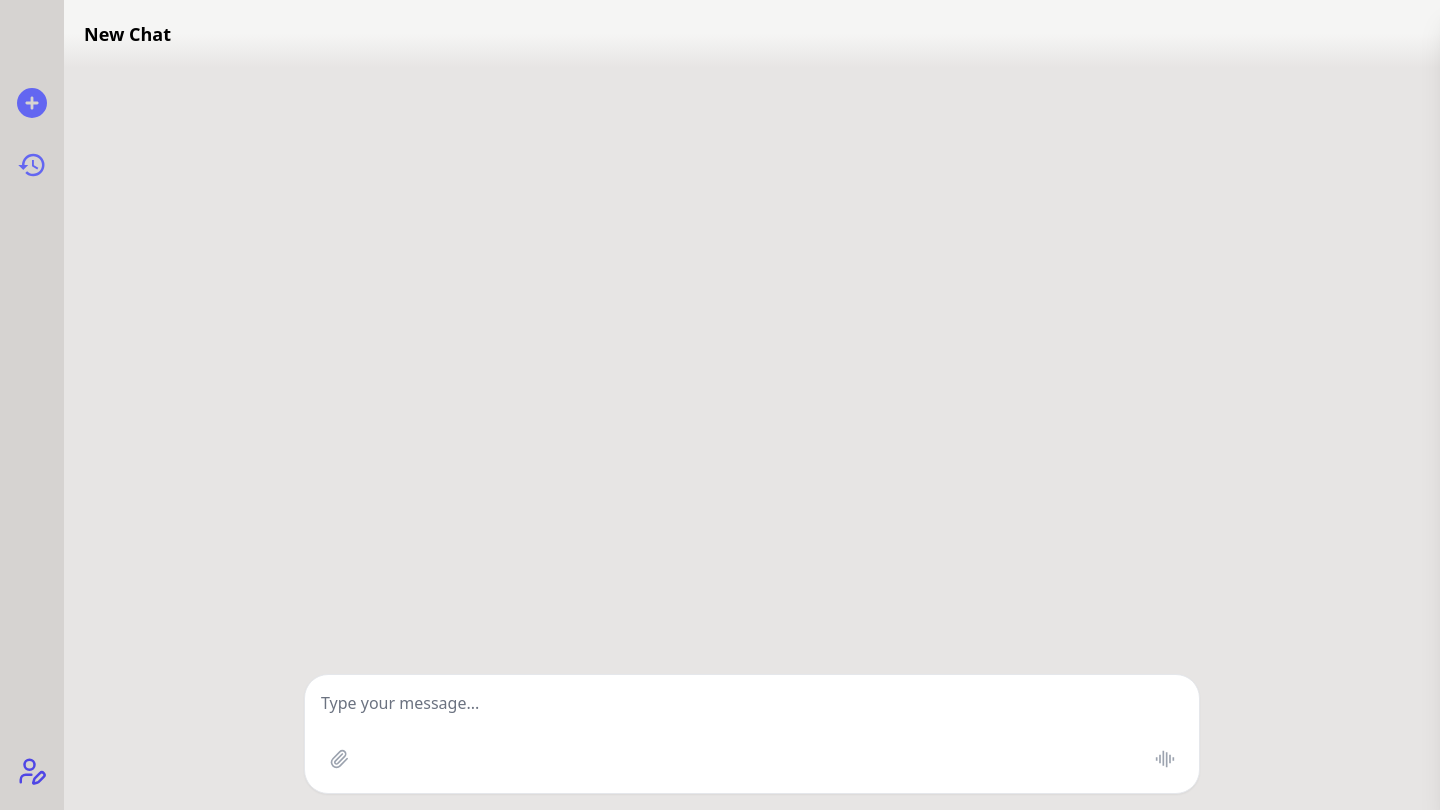
Chat Component › displays loading state while generating AI response
The image size is (1440, 810).
Type "Hello, AI!" into the text box with placeholder "Type your message...".
click(752, 731); type("Hello, AI!")  # box [305,675,1199,787]
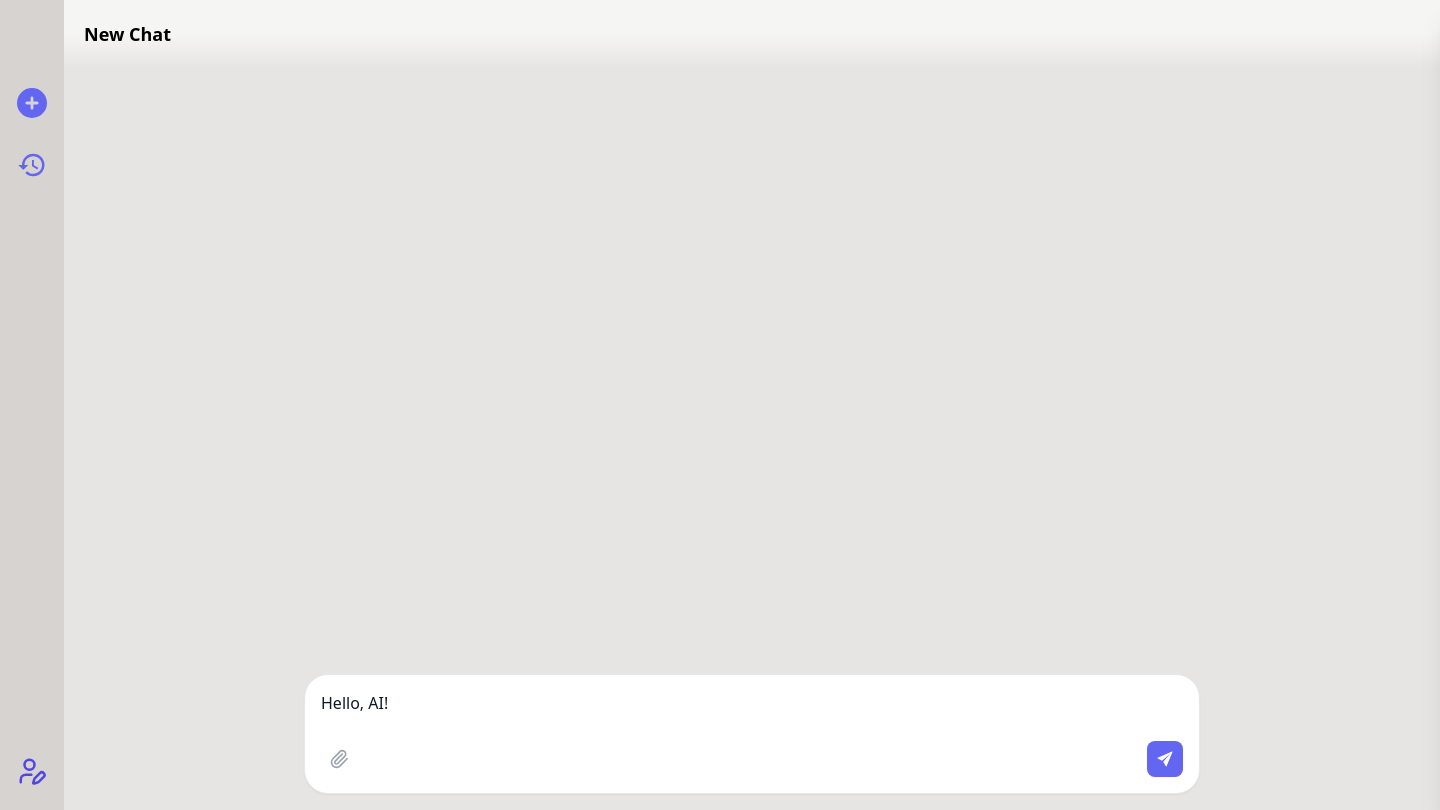
Click the button named "send message".
click(1165, 759)  # box [1147,741,1183,777]
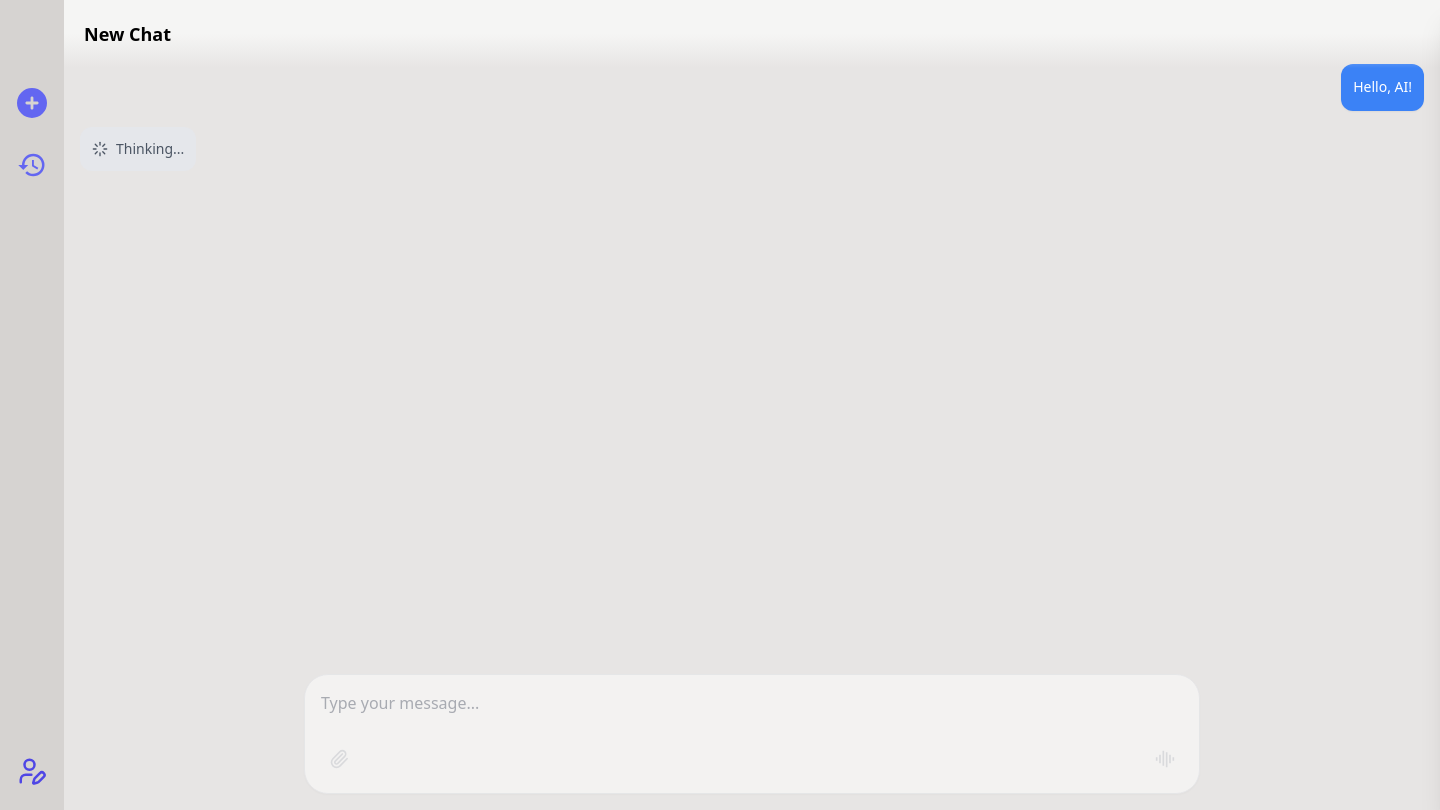
Now the text "Thinking..." is shown, box [116,139,184,159]
